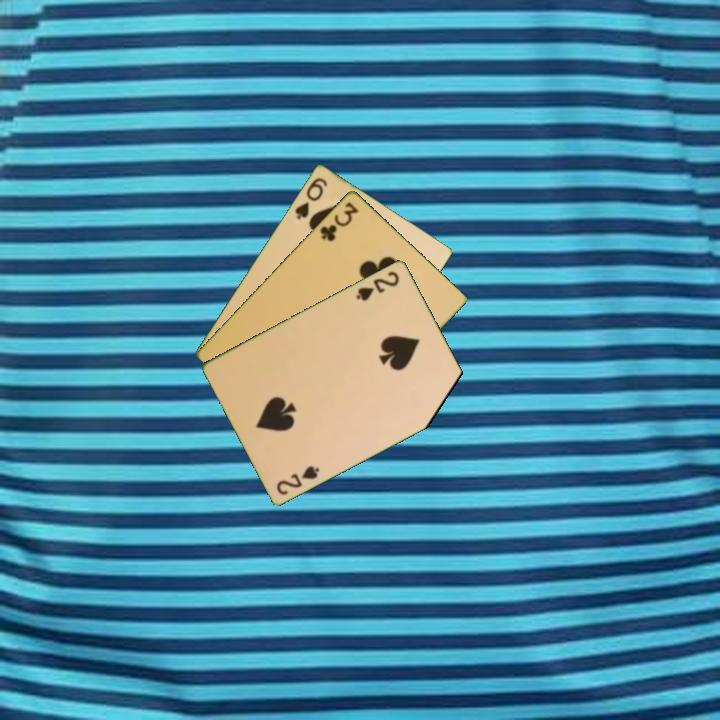2s: (353, 267, 402, 304), (273, 461, 323, 497)
3c: (316, 198, 361, 244)
6s: (291, 174, 330, 222)
